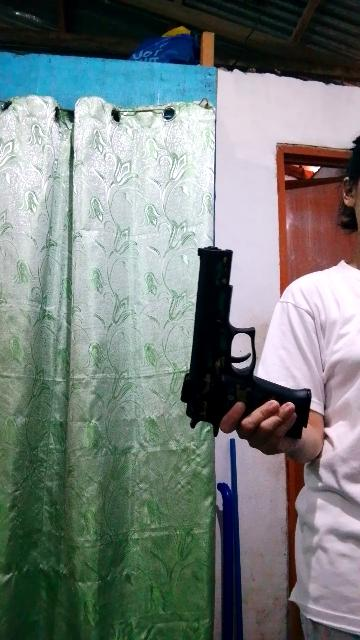pistol: (168, 224, 320, 442)
